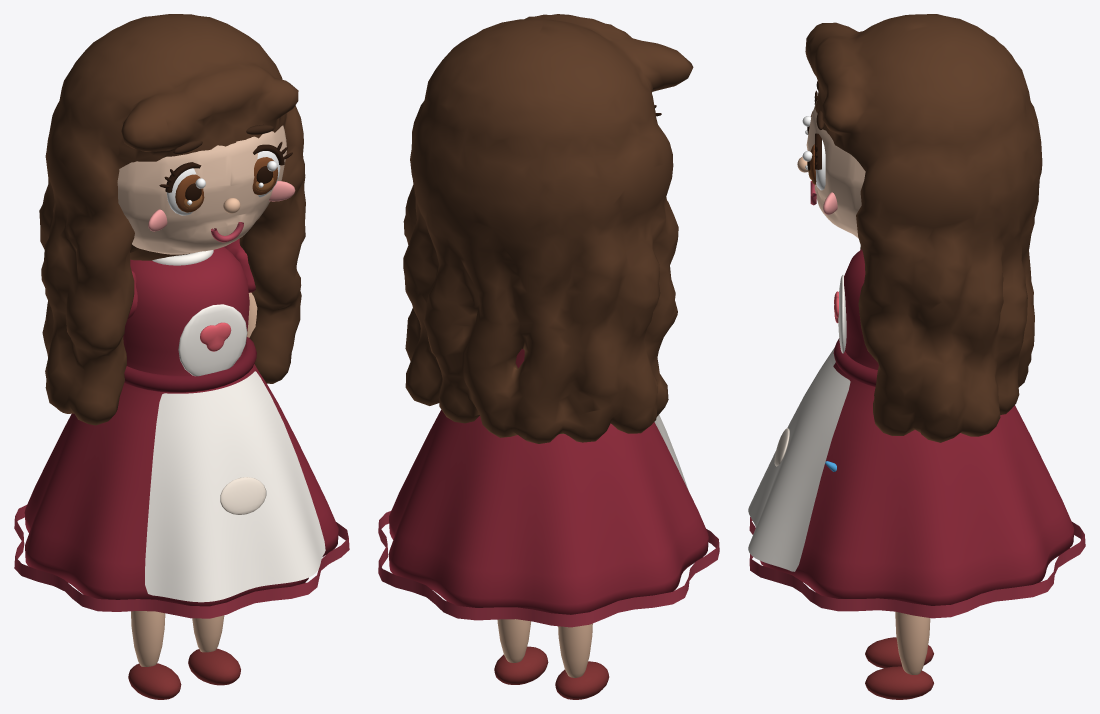
Rendered from maria.glb.
The picture shows the model from 3 angles, left to right: view 1: azimuth 30°, elevation 25°; view 2: azimuth 150°, elevation 25°; view 3: azimuth 270°, elevation 25°; orthographic projection.
Visible parts, largest first — view 1: maria_cabelo, maria_corpo, maria_avental, maria_cabeca, maria_barra, maria_peitilho, maria_faixa, maria_perna_L, maria_sapato_L, maria_sapato_R, maria_bolso, maria_perna_R (+3 smaller); view 2: maria_cabelo, maria_corpo, maria_barra, maria_perna_L, maria_sapato_L, maria_sapato_R, maria_perna_R; view 3: maria_cabelo, maria_corpo, maria_avental, maria_barra, maria_cabeca, maria_perna_R, maria_sapato_R, maria_sapato_L, maria_faixa, maria_peitilho.
Part boxes in pixels (x1,y1,x2,y2): maria_cabelo: (39,14,305,425); maria_corpo: (24,247,338,606); maria_avental: (145,371,325,602); maria_cabeca: (117,125,286,254); maria_barra: (14,505,349,618); maria_peitilho: (178,304,247,376); maria_faixa: (124,337,256,392); maria_perna_L: (131,611,165,666); maria_sapato_L: (128,663,181,699); maria_sapato_R: (188,648,240,685); maria_bolso: (220,477,266,514); maria_perna_R: (192,615,224,652); maria_cabelo: (403,14,693,443); maria_corpo: (388,349,708,614); maria_barra: (378,511,719,627); maria_perna_L: (558,623,592,677); maria_sapato_L: (555,661,609,699); maria_sapato_R: (494,646,548,684); maria_perna_R: (497,619,531,662); maria_cabelo: (805,14,1042,442); maria_corpo: (760,249,1074,605); maria_avental: (748,347,850,571); maria_barra: (749,517,1085,618); maria_cabeca: (806,100,865,238); maria_perna_R: (895,611,930,674); maria_sapato_R: (865,666,933,699); maria_sapato_L: (865,637,933,668); maria_faixa: (833,338,877,386); maria_peitilho: (838,275,846,353).
Size of the model in its own units: 1.28 by 2.71 by 1.26.
